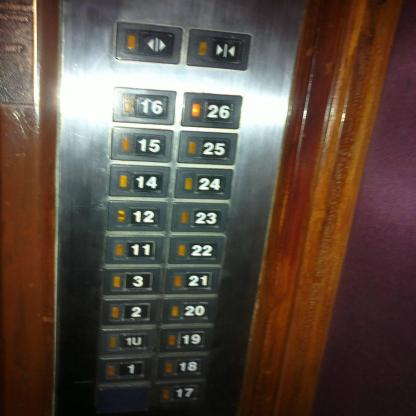1: (93, 356, 157, 384)
11: (103, 232, 168, 266)
12: (105, 200, 170, 235)
14: (107, 163, 172, 199)
15: (108, 126, 174, 164)
16: (111, 86, 177, 125)
17: (151, 379, 210, 407)
18: (154, 352, 212, 384)
19: (157, 323, 216, 356)
1U: (95, 326, 159, 356)
2: (97, 296, 163, 326)
20: (159, 295, 220, 326)
21: (161, 264, 224, 296)
22: (164, 232, 228, 266)
23: (167, 200, 232, 235)
24: (172, 164, 235, 200)
25: (176, 128, 239, 166)
26: (178, 90, 244, 130)
3: (100, 266, 165, 296)
close: (185, 26, 253, 72)
open: (113, 19, 184, 66)
